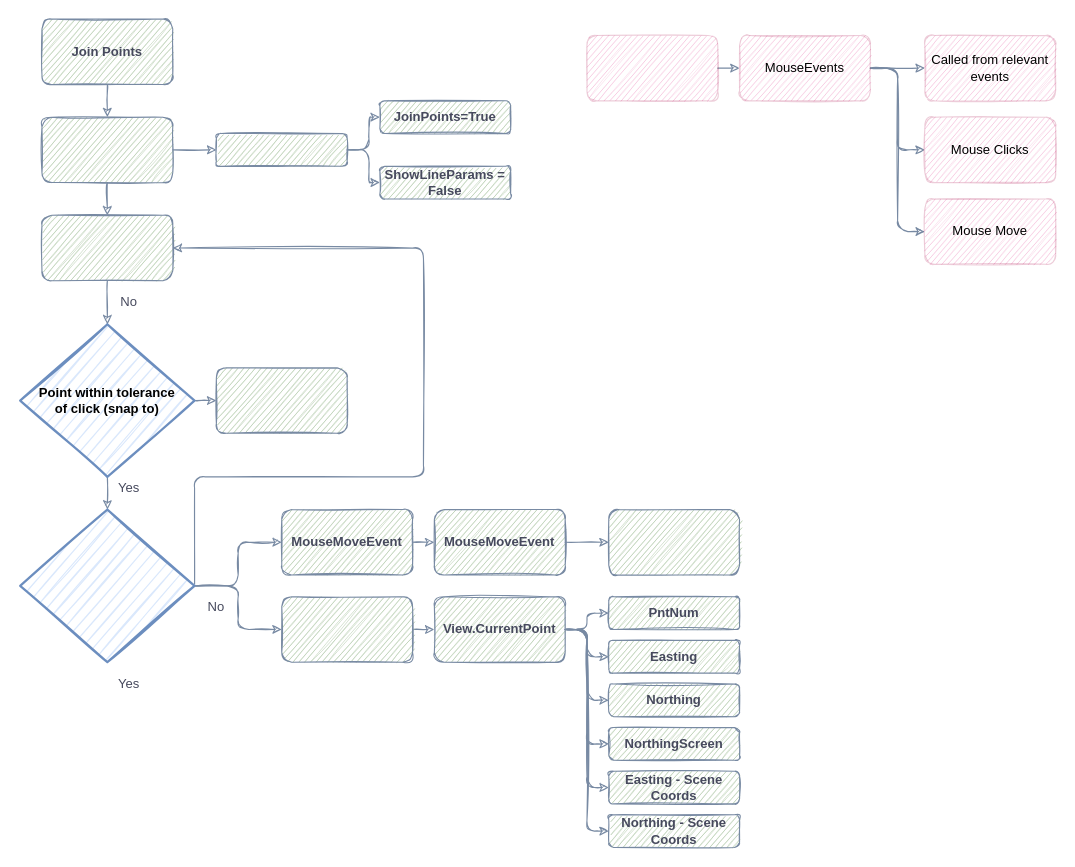
Image size: 1075x867. Some labels were removed from this diagram. Here are the shapes that lost their labels. From the top down, the centre of each, then its label:
(x=652, y=67): Create Package
(x=107, y=149): Click Join Points Icon
(x=281, y=149): Sets
(x=107, y=247): MousePressEvent
(x=281, y=400): Do Nothing
(x=674, y=541): On move drawline line and remove last line
(x=107, y=585): View.CurrentPoint = None?
(x=347, y=629): Create view attribute storing point number
